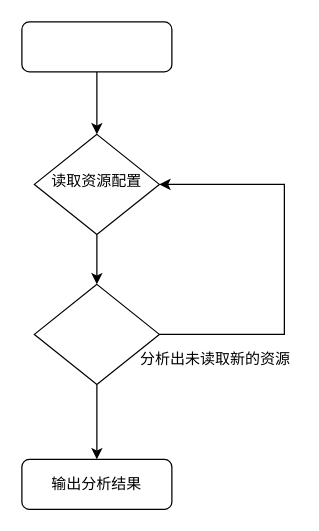
This 319x531 diagram has some shape labels left out. Each missing label, with the centre of its shape:
"对资源进行分析" goes at point 96,333.
"逻辑线程Load开始" goes at point 96,46.
